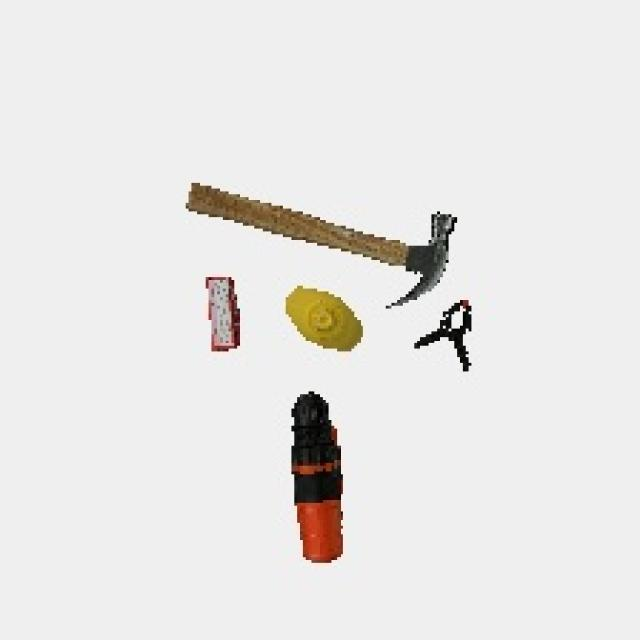GelatinBox: (202, 272, 246, 356)
MediumClamp: (419, 299, 493, 377)
MustardBottle: (281, 283, 369, 358)
PowerDrill: (284, 388, 352, 570)
